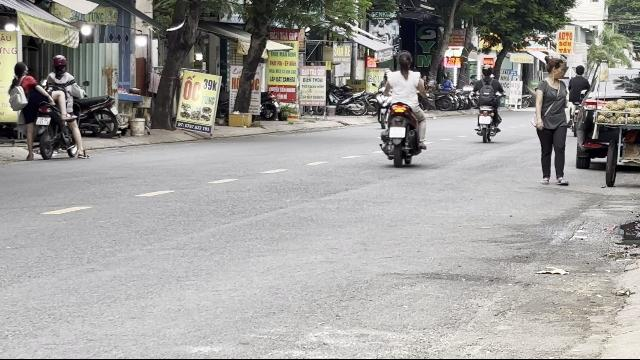helmet: (51, 55, 67, 74)
licenseplate: (389, 126, 405, 138), (36, 117, 52, 125)
motorcyclist: (376, 50, 428, 166), (34, 53, 86, 159)
nohelmet: (396, 50, 412, 70)
